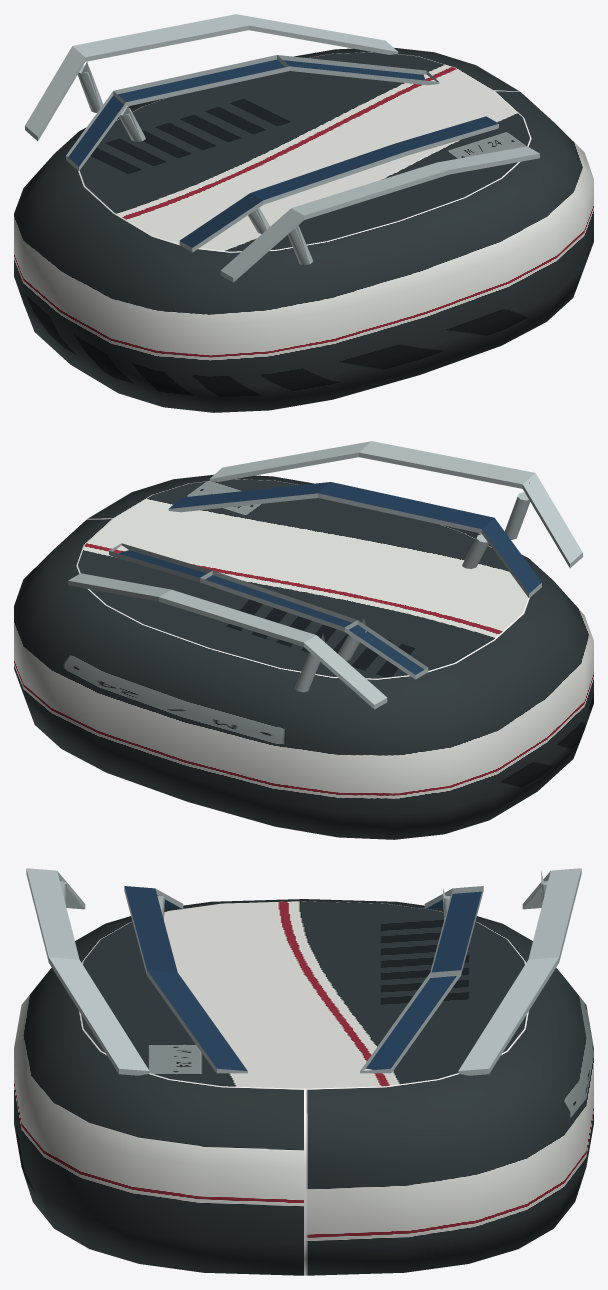
The model's file is MotorCowl_24_SSR_白銀・三段返し.glb.
3 views of the same model, one above another, from view 1: azimuth 30°, elevation 25°; view 2: azimuth 150°, elevation 25°; view 3: azimuth 270°, elevation 25° (orthographic). The views are drawn at different scales.
Parts seen in each view (by area): view 1: MotorCowl_24_SSR; view 2: MotorCowl_24_SSR; view 3: MotorCowl_24_SSR.
Boxes of the visible parts, left/top/right/bottom form: MotorCowl_24_SSR: left=14, top=14, right=593, bottom=412; MotorCowl_24_SSR: left=14, top=441, right=593, bottom=839; MotorCowl_24_SSR: left=14, top=868, right=593, bottom=1275.
Size of the model in its own units: 0.332 by 0.1423 by 0.286.
2 materials, 2 textured.
